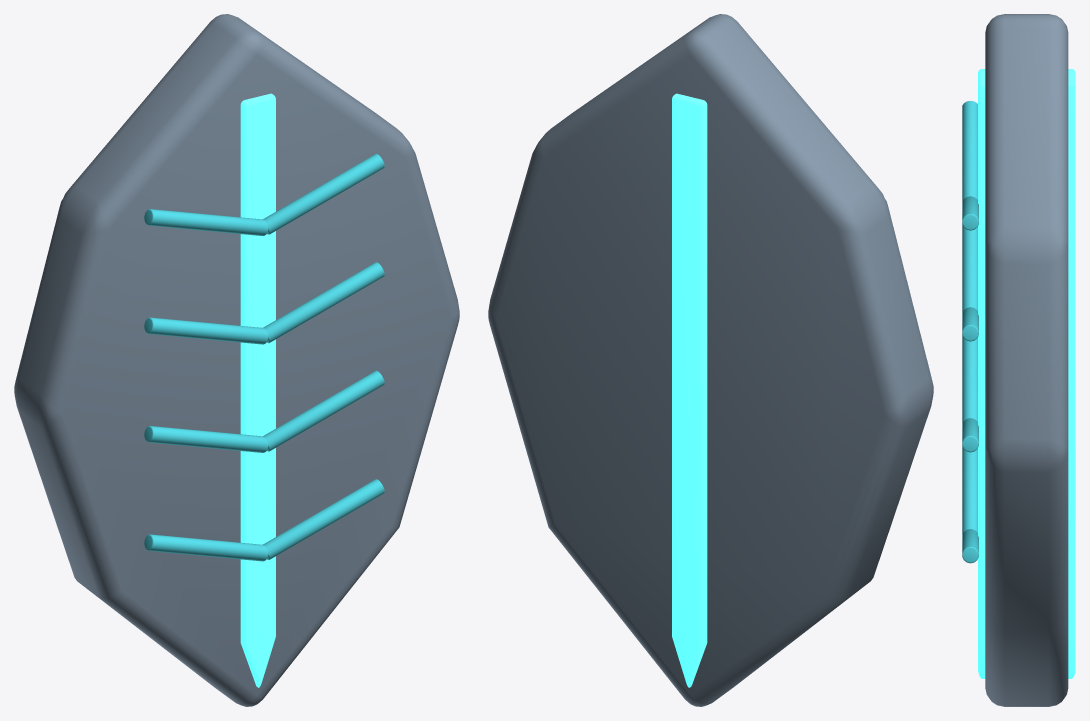
The model's file is shield_v8.glb.
The picture shows the model from 3 angles, left to right: view 1: azimuth 30°, elevation 25°; view 2: azimuth 150°, elevation 25°; view 3: azimuth 270°, elevation 25°; orthographic projection. The views are drawn at different scales.
Parts seen in each view (by area): view 1: LEAF_SHIELD_PRIMARY, LEAF_VEIN_EMISSIVE, LEAF_RIB_ACCENT.007, LEAF_RIB_ACCENT.003, LEAF_RIB_ACCENT.005, LEAF_RIB_ACCENT.001, LEAF_RIB_ACCENT, LEAF_RIB_ACCENT.004, LEAF_RIB_ACCENT.006, LEAF_RIB_ACCENT.002; view 2: LEAF_SHIELD_PRIMARY, LEAF_VEIN_EMISSIVE; view 3: LEAF_SHIELD_PRIMARY, LEAF_VEIN_EMISSIVE, LEAF_RIB_ACCENT.006, LEAF_RIB_ACCENT.004, LEAF_RIB_ACCENT, LEAF_RIB_ACCENT.002, LEAF_RIB_ACCENT.001, LEAF_RIB_ACCENT.007, LEAF_RIB_ACCENT.003, LEAF_RIB_ACCENT.005.
Part boxes in pixels (x1=…): LEAF_SHIELD_PRIMARY: x1=14, y1=14, x2=459, y2=706; LEAF_VEIN_EMISSIVE: x1=240, y1=93, x2=275, y2=687; LEAF_RIB_ACCENT.007: x1=263, y1=153, x2=384, y2=234; LEAF_RIB_ACCENT.003: x1=263, y1=370, x2=384, y2=451; LEAF_RIB_ACCENT.005: x1=263, y1=262, x2=384, y2=343; LEAF_RIB_ACCENT.001: x1=263, y1=479, x2=384, y2=559; LEAF_RIB_ACCENT: x1=144, y1=534, x2=268, y2=561; LEAF_RIB_ACCENT.004: x1=144, y1=317, x2=268, y2=344; LEAF_RIB_ACCENT.006: x1=144, y1=209, x2=268, y2=235; LEAF_RIB_ACCENT.002: x1=144, y1=426, x2=268, y2=452; LEAF_SHIELD_PRIMARY: x1=488, y1=14, x2=933, y2=706; LEAF_VEIN_EMISSIVE: x1=672, y1=93, x2=707, y2=687; LEAF_SHIELD_PRIMARY: x1=985, y1=14, x2=1068, y2=706; LEAF_VEIN_EMISSIVE: x1=978, y1=69, x2=1075, y2=678; LEAF_RIB_ACCENT.006: x1=962, y1=101, x2=977, y2=201; LEAF_RIB_ACCENT.004: x1=962, y1=225, x2=977, y2=312; LEAF_RIB_ACCENT: x1=962, y1=447, x2=977, y2=534; LEAF_RIB_ACCENT.002: x1=962, y1=336, x2=977, y2=423; LEAF_RIB_ACCENT.001: x1=962, y1=529, x2=978, y2=563; LEAF_RIB_ACCENT.007: x1=962, y1=196, x2=978, y2=230; LEAF_RIB_ACCENT.003: x1=962, y1=418, x2=978, y2=452; LEAF_RIB_ACCENT.005: x1=962, y1=307, x2=978, y2=341.
Bounding box in the file's own units: 2.01 × 3.11 × 0.4641.
